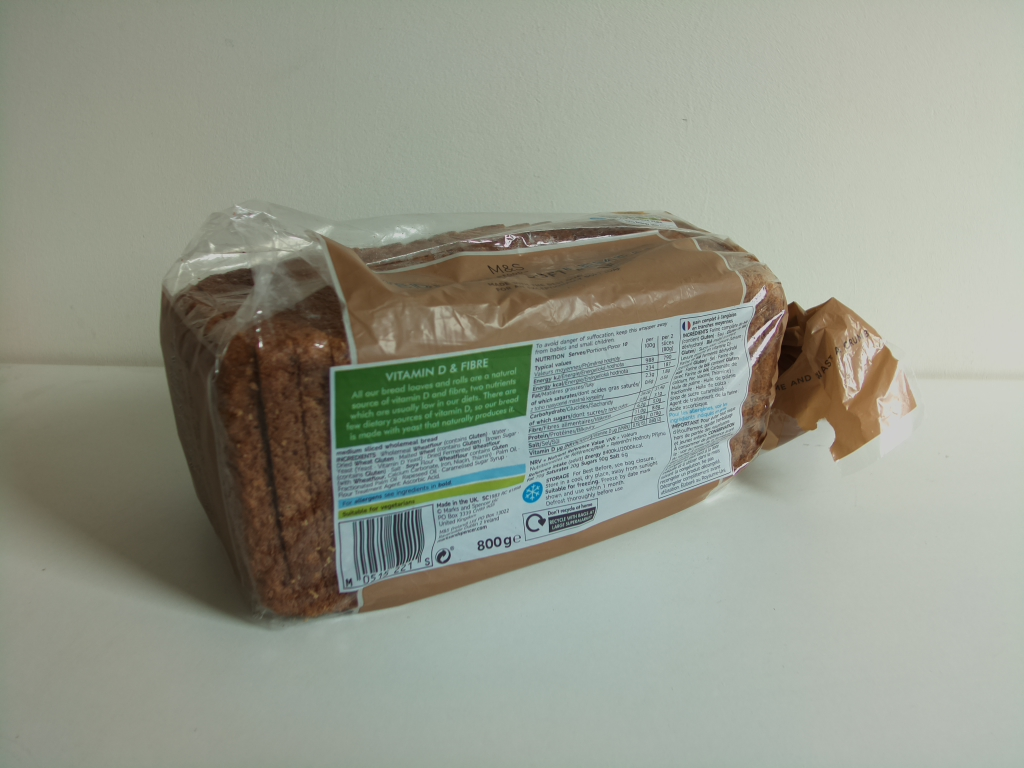bread: (161, 201, 919, 624)
